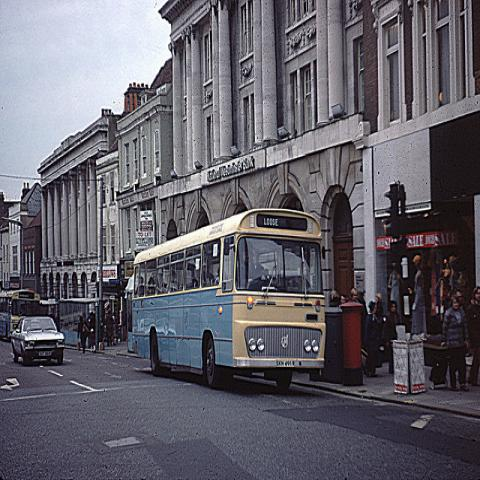bus: (126, 207, 326, 394), (0, 289, 41, 338)
car: (11, 316, 64, 366)
